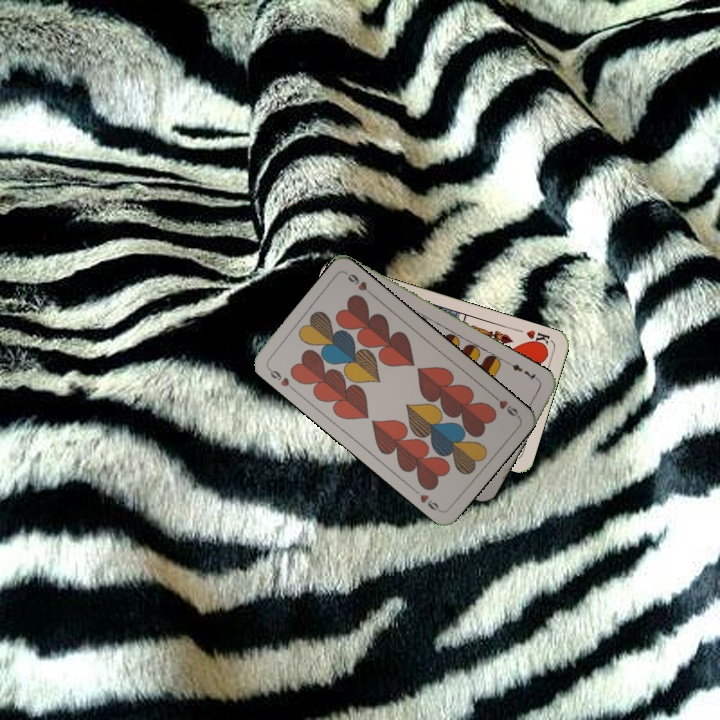E7: (506, 359, 542, 385)
H9: (264, 363, 298, 394), (487, 390, 521, 420)
HK: (522, 326, 554, 350)
